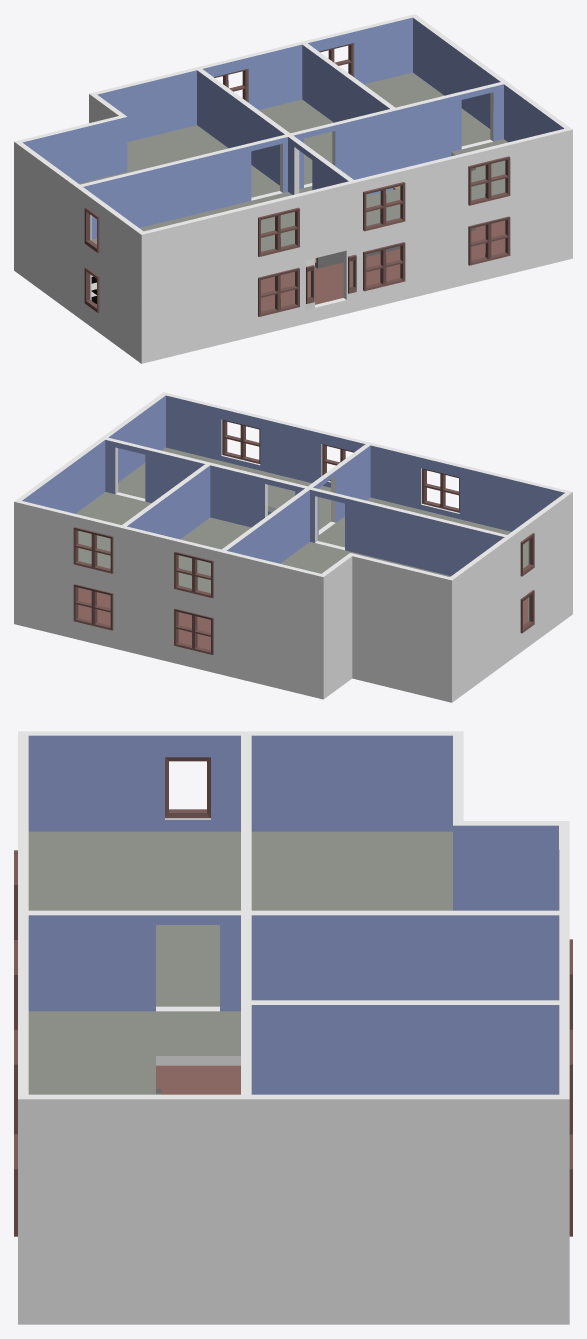
File: HouseV3.fbx
3 views of the same model, one above another, from view 1: azimuth 30°, elevation 25°; view 2: azimuth 150°, elevation 25°; view 3: azimuth 270°, elevation 25° (orthographic). The views are drawn at different scales.
Visible parts, largest first — view 1: Floor_2, Floor_1, Floor_1.001; view 2: Floor_2, Floor_1; view 3: Floor_2, Floor_1.
Part boxes in pixels (bbox=[...]): Floor_2: bbox=[14, 14, 572, 294]; Floor_1: bbox=[14, 188, 572, 363]; Floor_1.001: bbox=[315, 167, 475, 268]; Floor_2: bbox=[14, 392, 572, 637]; Floor_1: bbox=[14, 511, 572, 702]; Floor_2: bbox=[14, 731, 572, 1204]; Floor_1: bbox=[14, 1065, 572, 1324].
Size of the model in its own units: 1647 by 469 by 1053.
